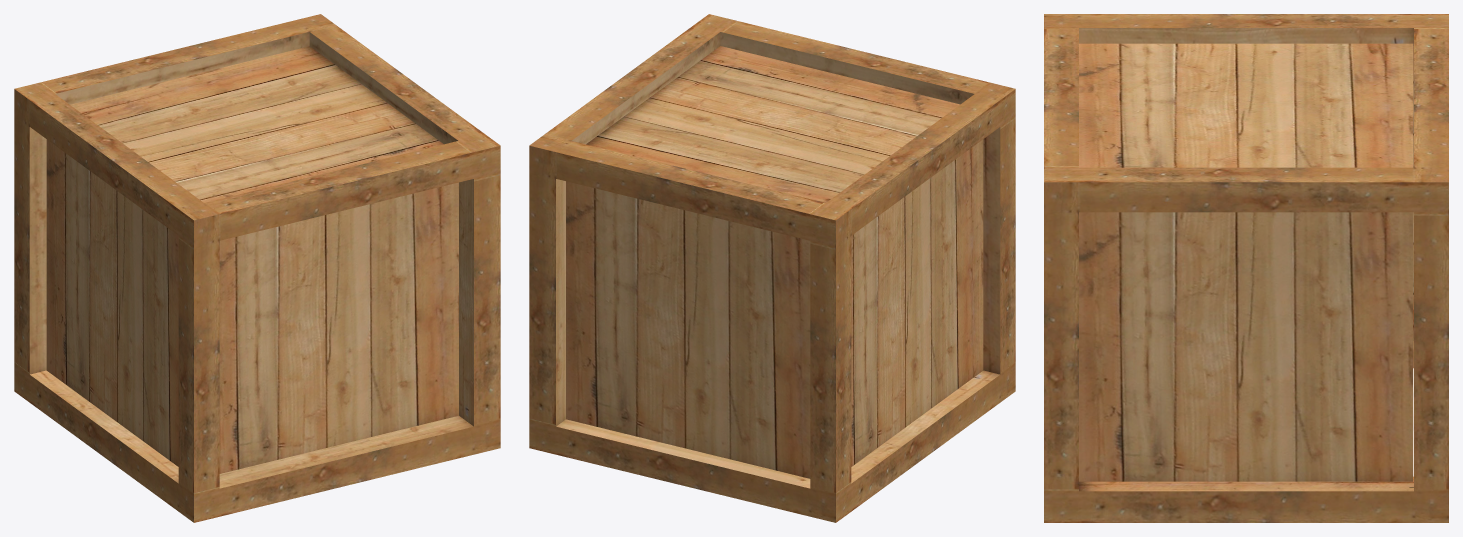
File: Crate.FBX
3 renders of one model, left to right at view 1: azimuth 30°, elevation 25°; view 2: azimuth 150°, elevation 25°; view 3: azimuth 270°, elevation 25°, orthographic. The views are drawn at different scales.
Parts seen in each view (by area): view 1: Crate; view 2: Crate; view 3: Crate.
Boxes of the visible parts, x1,y1,x2,y2 form: Crate: [14, 14, 500, 522]; Crate: [529, 14, 1015, 522]; Crate: [1044, 14, 1448, 522].
Size of the model in its own units: 51.45 by 48.49 by 52.25.
